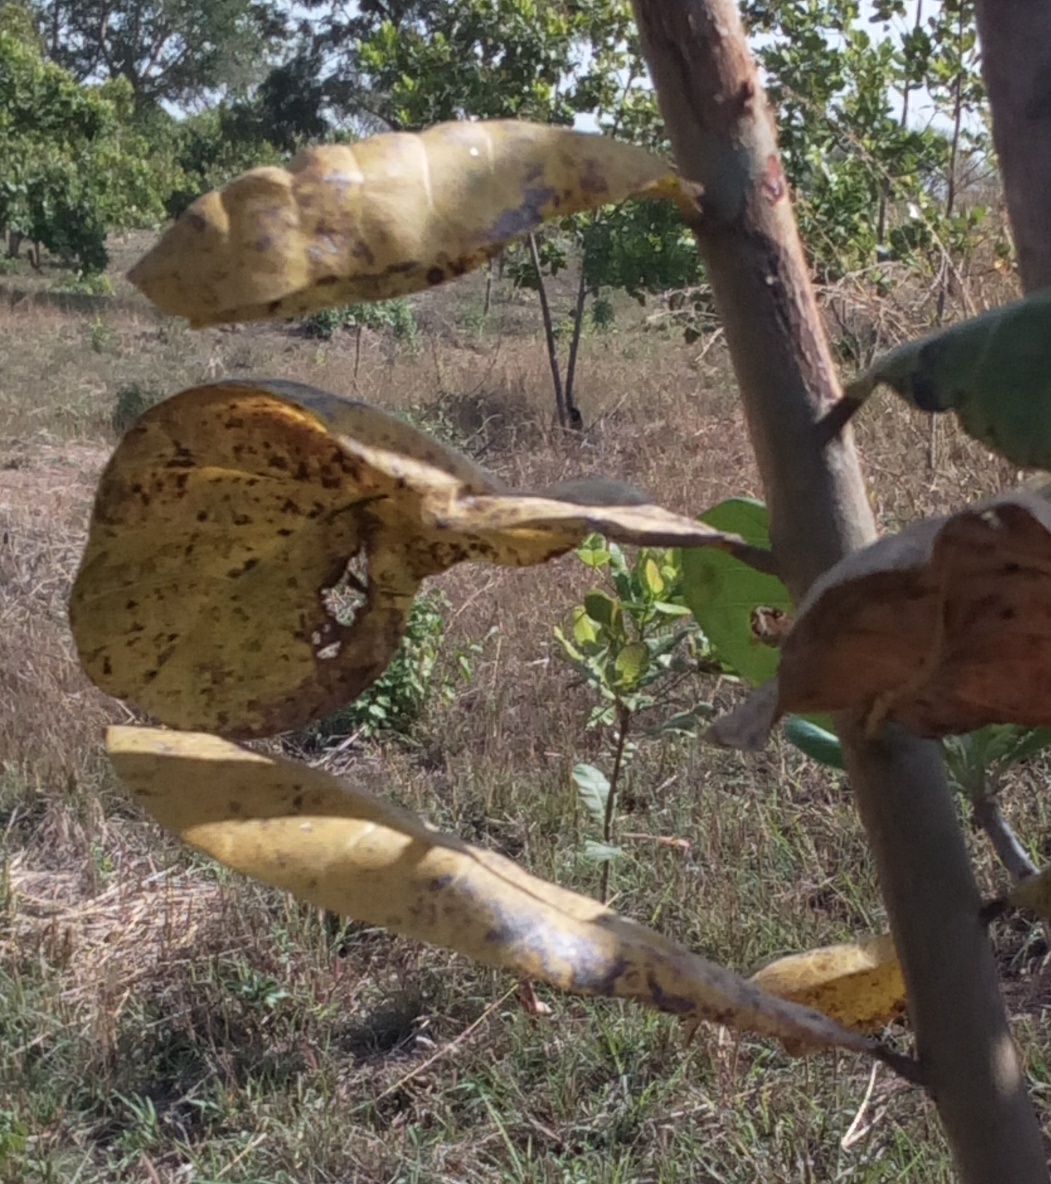Bactériose: (121, 725, 914, 1028), (71, 392, 716, 728), (118, 126, 696, 325)
